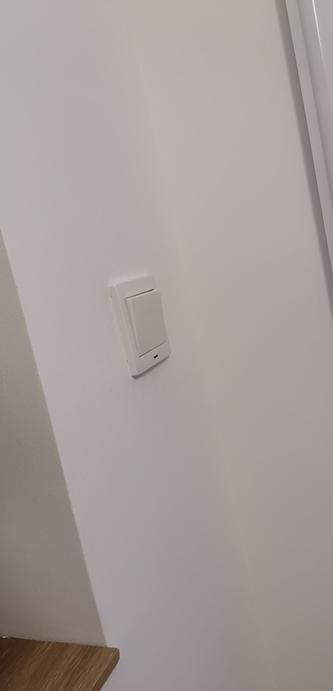switch: (117, 280, 179, 368)
